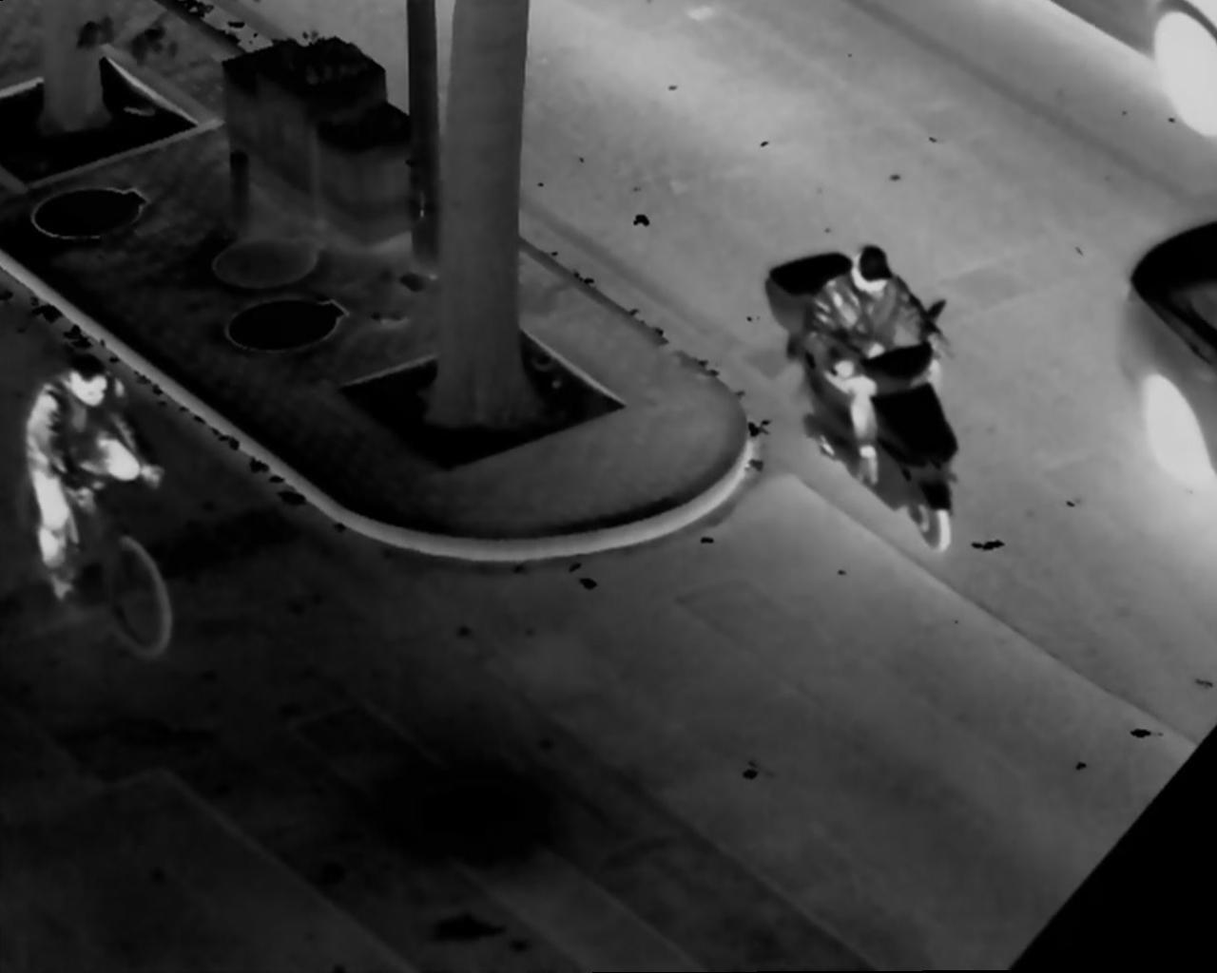person: (807, 245, 958, 493), (31, 358, 164, 604)
